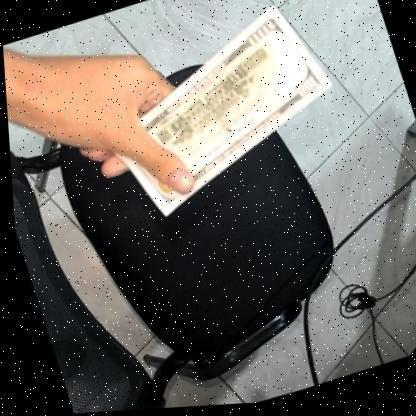one_hundred-back: (54, 0, 358, 243)
